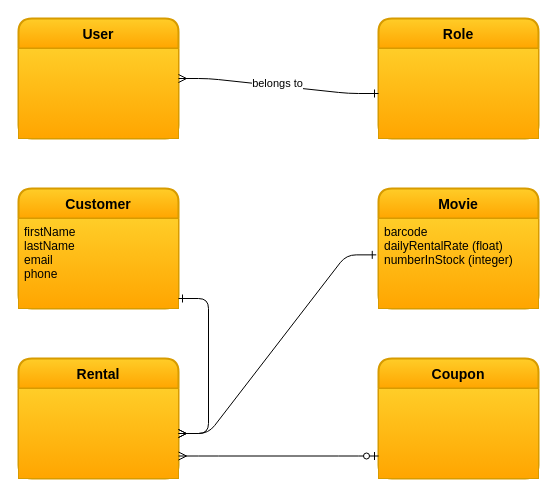
The diagram is 556 pixels wide and 496 high, and some of its shapes have lost their labels. Here are the shapes that lost their labels. From the top down, the centre of each, then its label:
At point (98, 93): "username (string) password (string)".
At point (458, 93): "name (string)".
At point (98, 433): "rentDate (date) returnDate (date)".
At point (458, 433): "code description discount".
